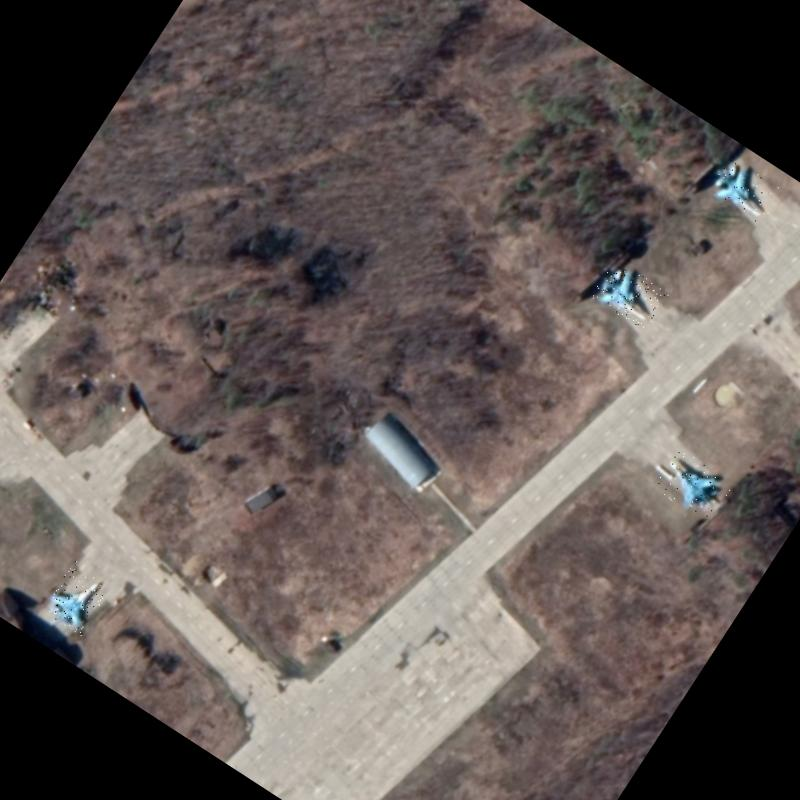A19: (652, 447, 734, 525), (589, 258, 669, 332), (704, 153, 782, 224), (42, 560, 114, 636)
